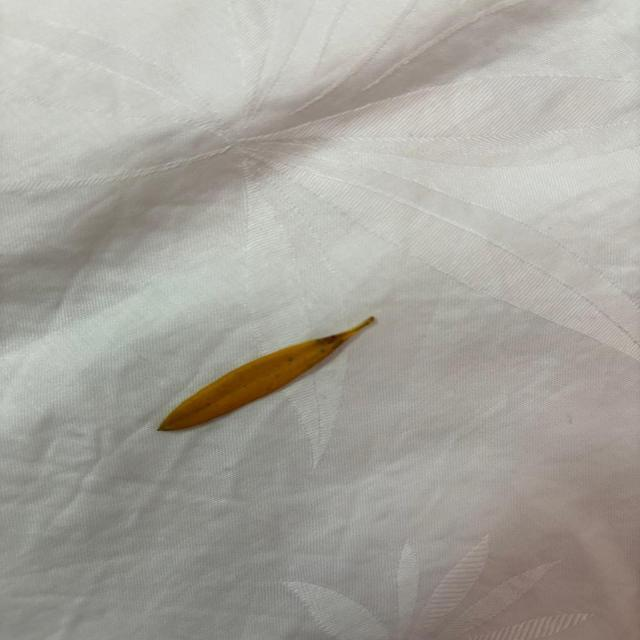OlivePeacockSpot: (158, 316, 375, 432)
